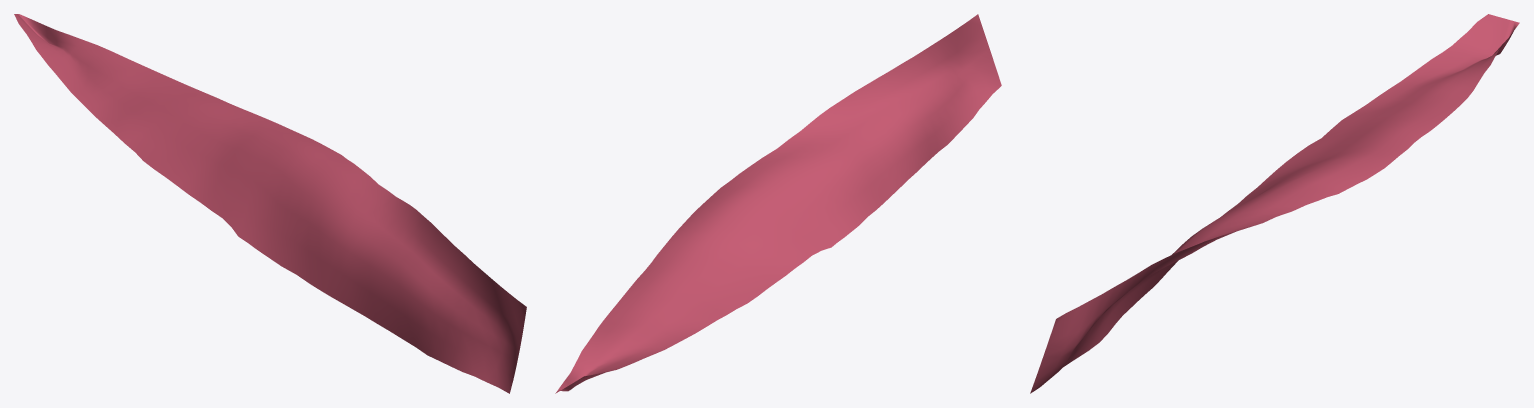
3 renders of one model, left to right at view 1: azimuth 30°, elevation 25°; view 2: azimuth 150°, elevation 25°; view 3: azimuth 330°, elevation 25°, orthographic. The views are drawn at different scales.
Visible parts, largest first — view 1: 左侧股外侧肌间隔; view 2: 左侧股外侧肌间隔; view 3: 左侧股外侧肌间隔.
Part boxes in pixels (x1,y1,x2,y2): 左侧股外侧肌间隔: [14, 14, 526, 393]; 左侧股外侧肌间隔: [555, 14, 1001, 393]; 左侧股外侧肌间隔: [1030, 14, 1519, 393].
Bounding box in the file's own units: 0.0529 × 0.0391 × 0.3939.
